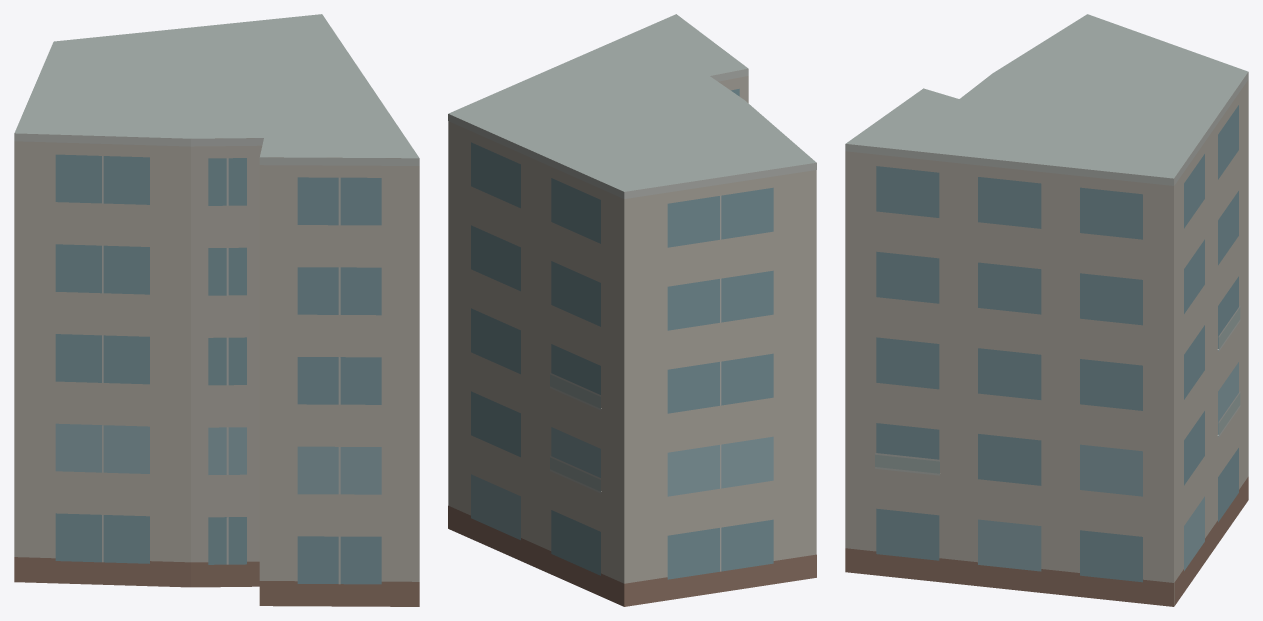
Rendered from survey-upis-32634785.glb.
3 views of the same model, side by side, from view 1: azimuth 30°, elevation 25°; view 2: azimuth 150°, elevation 25°; view 3: azimuth 270°, elevation 25° (orthographic). The views are drawn at different scales.
Visible parts, largest first — view 1: survey-upis-32634785.tmp; view 2: survey-upis-32634785.tmp; view 3: survey-upis-32634785.tmp.
Boxes of the visible parts, x1,y1,x2,y2 form: survey-upis-32634785.tmp: (14, 14, 419, 606); survey-upis-32634785.tmp: (448, 14, 816, 606); survey-upis-32634785.tmp: (845, 14, 1248, 606).
Size of the model in its own units: 11.54 by 14 by 11.95.
